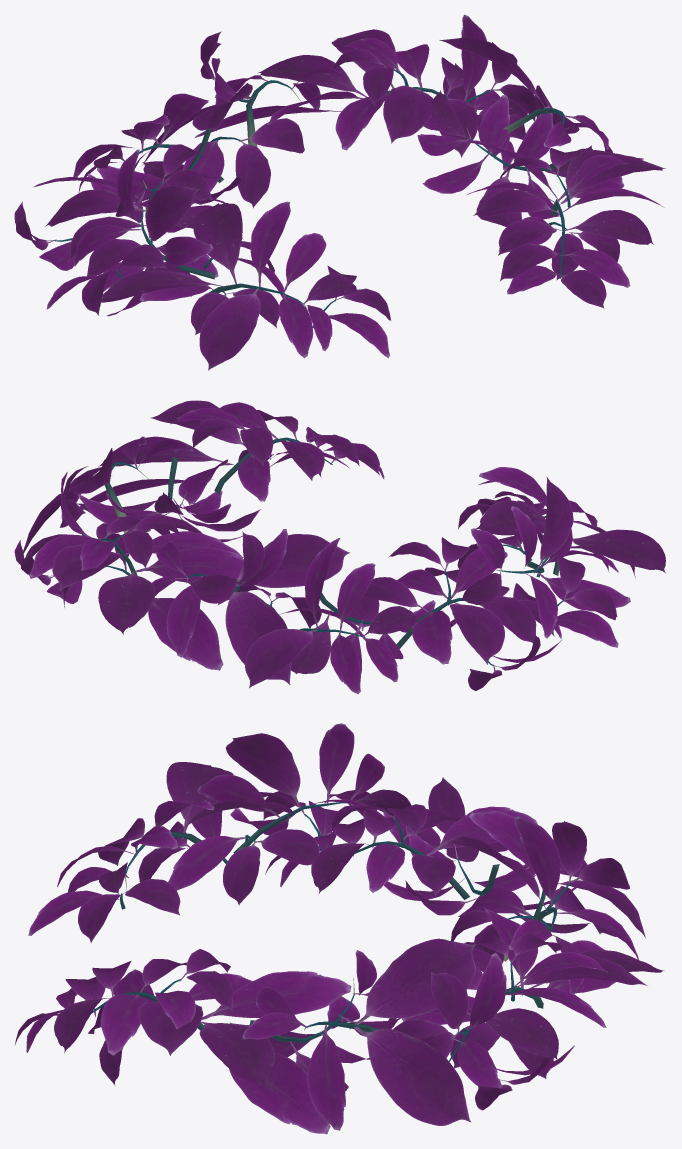
The picture shows the model from 3 angles, top to bottom: view 1: azimuth 30°, elevation 25°; view 2: azimuth 150°, elevation 25°; view 3: azimuth 270°, elevation 25°; orthographic projection. The views are drawn at different scales.
Parts seen in each view (by area): view 1: SM_Wreath_01_LOD0; view 2: SM_Wreath_01_LOD0; view 3: SM_Wreath_01_LOD0.
Boxes of the visible parts, x1,y1,x2,y2 form: SM_Wreath_01_LOD0: (14,14,665,370); SM_Wreath_01_LOD0: (14,400,665,694); SM_Wreath_01_LOD0: (15,723,664,1134).
Bounding box in the file's own units: 0.7166 × 0.1714 × 0.6225.
1 material, 1 textured.
